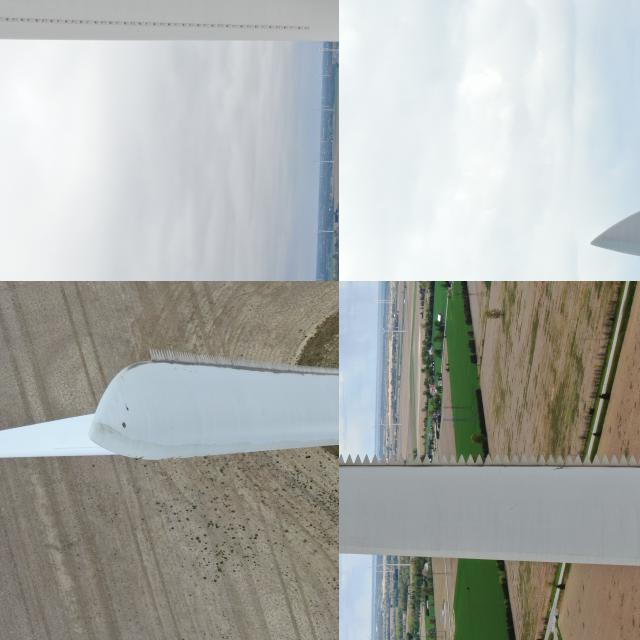damage: (158, 455, 182, 461), (125, 453, 145, 460), (122, 406, 130, 411)
